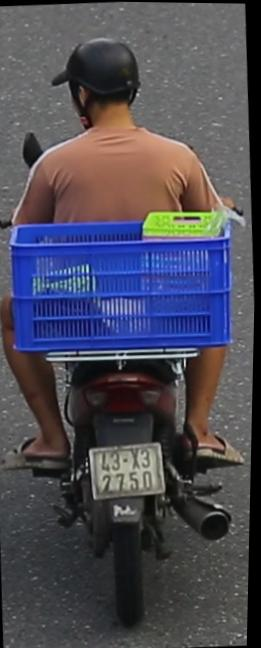LP: (85, 433, 170, 505)
helmet: (43, 26, 155, 154)
